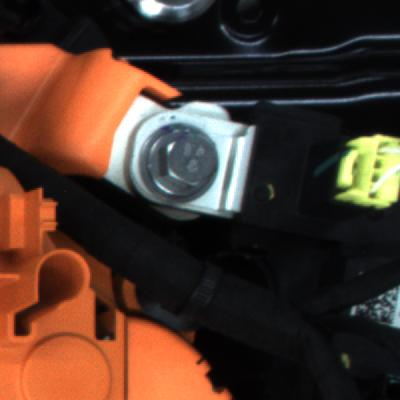nut_b: (136, 119, 232, 215)
